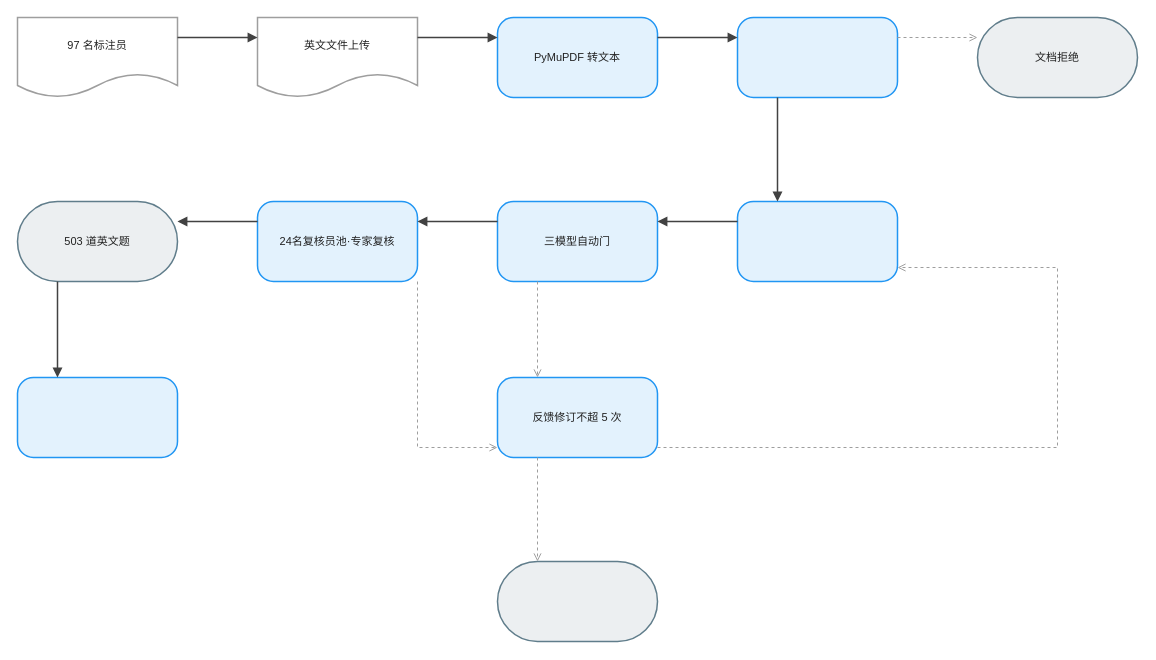
Some shapes in this 1156 by 660 pixel diagram are drawn without their labels. The shapes that lost their labels are listed below. From the top down, each one's centre as x and y in pixels, then its label:
At point 817,57: "8192 词与去重".
At point 817,241: "四选一与证据".
At point 97,417: "70 题最终抽检".
At point 577,601: "超过 5 次终止".
